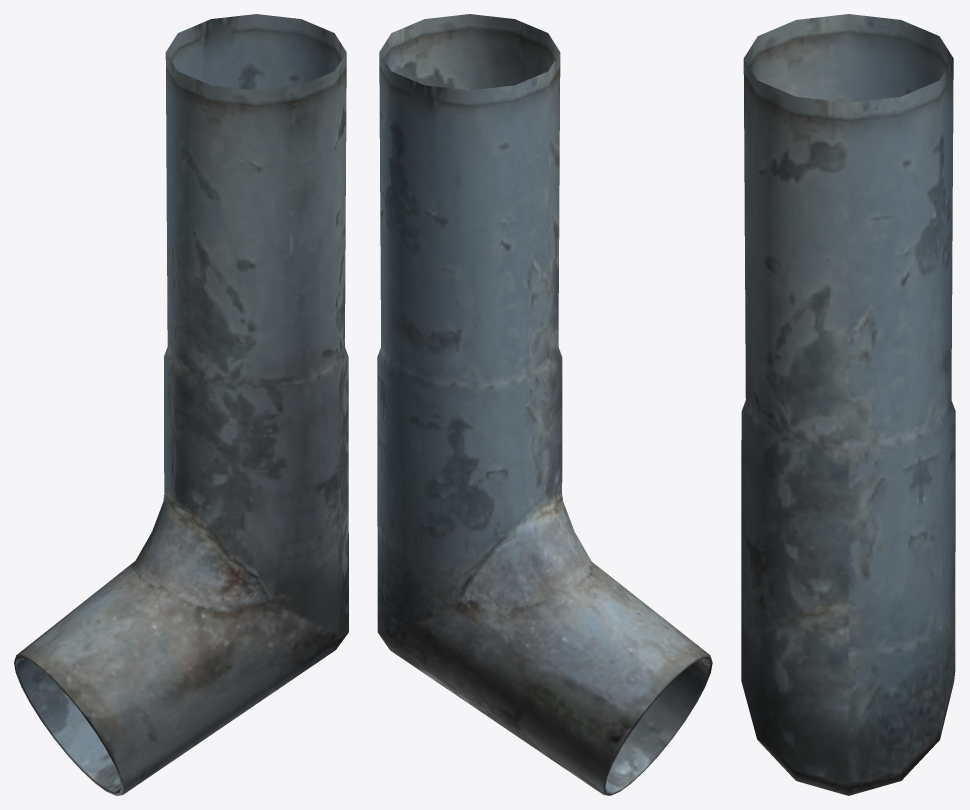
Rendered from sm_Pipe_01_03.fbx.
The picture shows the model from 3 angles, left to right: view 1: azimuth 30°, elevation 25°; view 2: azimuth 150°, elevation 25°; view 3: azimuth 270°, elevation 25°; orthographic projection. The views are drawn at different scales.
Visible parts, largest first — view 1: sm_Pipe_01_03_LOD0; view 2: sm_Pipe_01_03_LOD0; view 3: sm_Pipe_01_03_LOD0.
Boxes of the visible parts, box(x1,y1,x2,y2) form: sm_Pipe_01_03_LOD0: box(14, 14, 348, 795); sm_Pipe_01_03_LOD0: box(377, 14, 712, 795); sm_Pipe_01_03_LOD0: box(741, 14, 955, 795).
Bounding box in the file's own units: 12.32 × 23.13 × 51.27.
